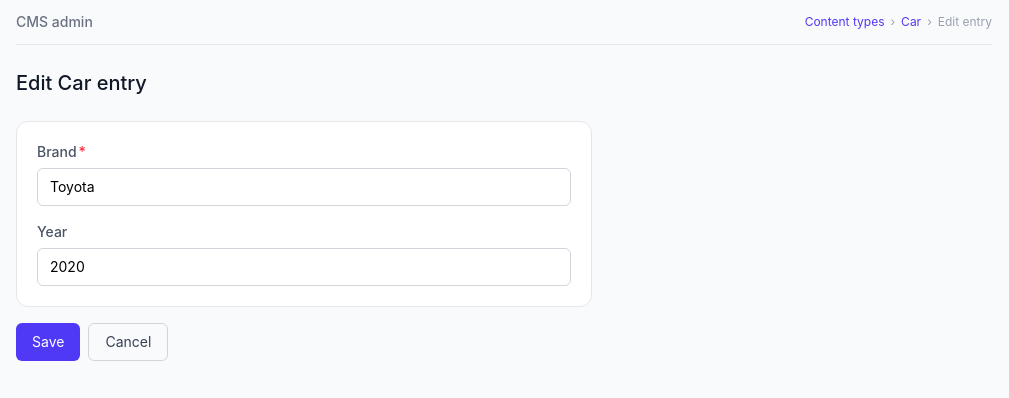
EditEntry › shows required validation error when required field is cleared
Clear the field showing "Toyota": (304, 187) [37, 168, 571, 206]
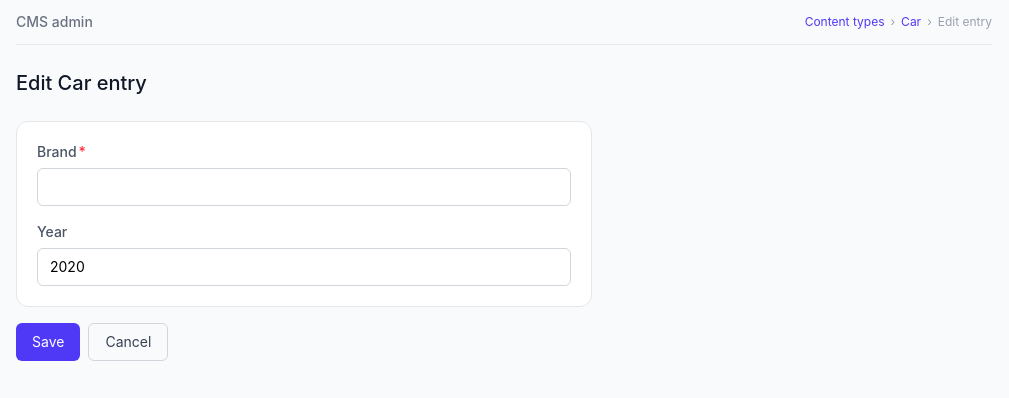
Click the button "Save": (48, 342) [16, 323, 80, 361]
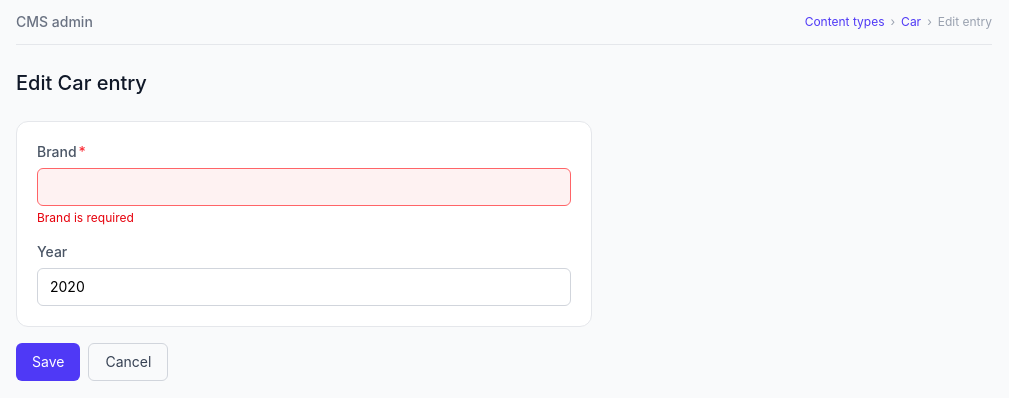
expect the text "Brand is required" is shown: met, box [37, 210, 134, 225]
